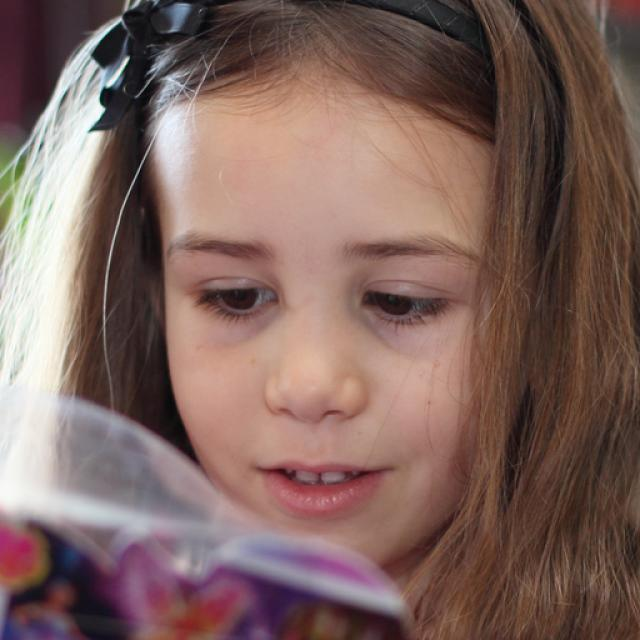sad: (165, 80, 510, 575)
